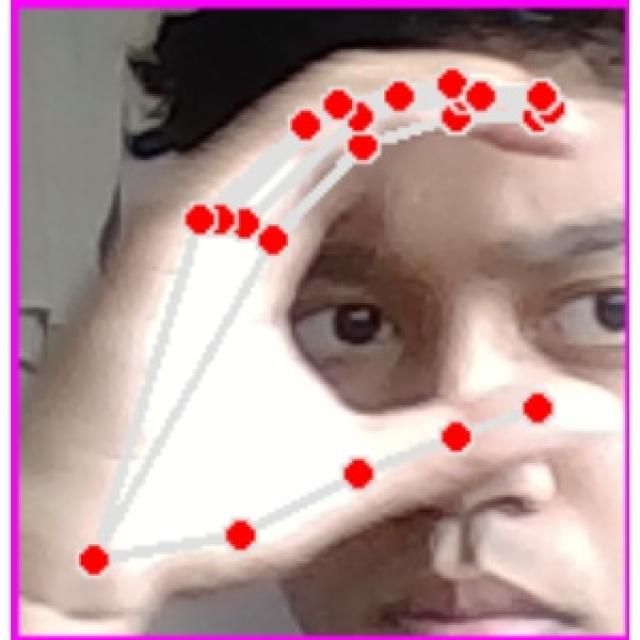C: (26, 36, 616, 617)
